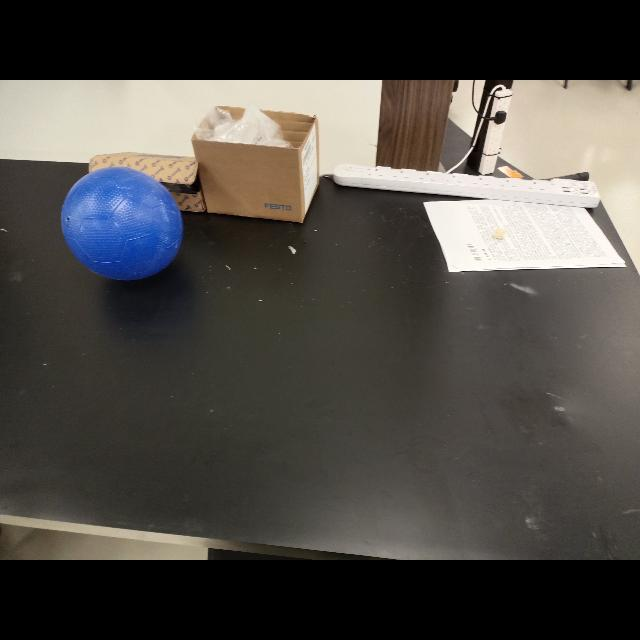B: (60, 166, 184, 282)
